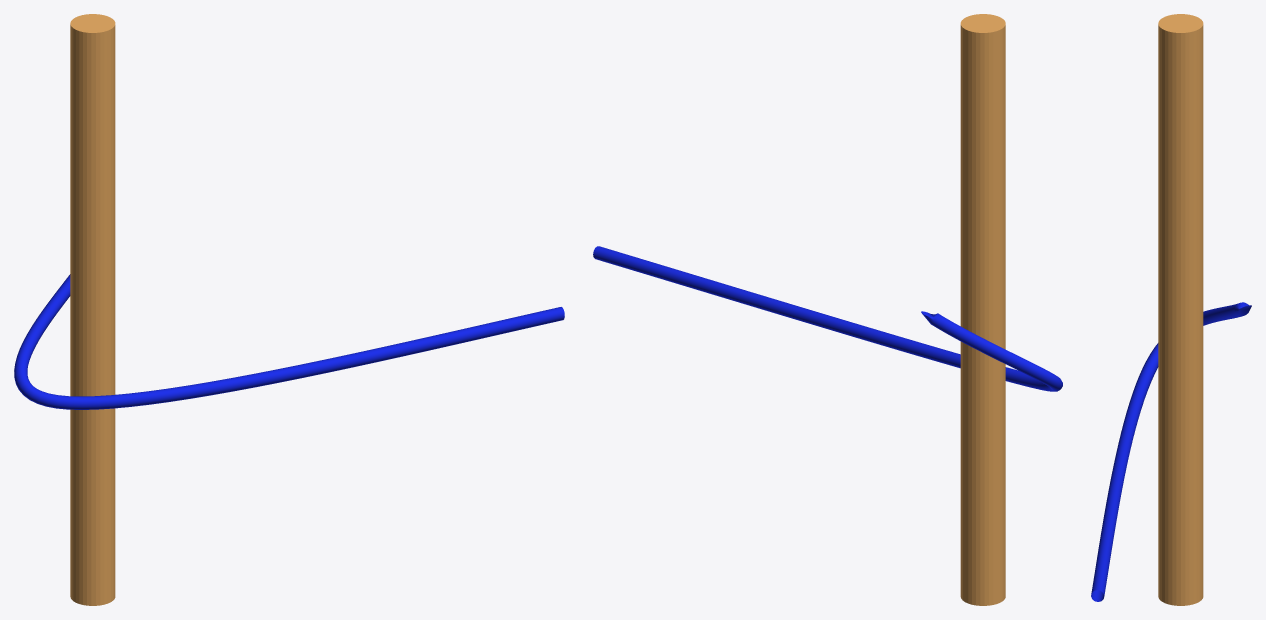
The model's file is TwoHalfHitchState2.dae.
3 views of the same model, side by side, from view 1: azimuth 30°, elevation 25°; view 2: azimuth 150°, elevation 25°; view 3: azimuth 270°, elevation 25° (orthographic).
Visible parts, largest first — view 1: Cylinder, NurbsCurve.001; view 2: Cylinder, NurbsCurve.001; view 3: Cylinder, NurbsCurve.001.
Boxes of the visible parts, <box> form: Cylinder: <box>70,14,115,605</box>; NurbsCurve.001: <box>14,274,564,409</box>; Cylinder: <box>960,14,1005,605</box>; NurbsCurve.001: <box>593,246,1062,391</box>; Cylinder: <box>1158,14,1203,605</box>; NurbsCurve.001: <box>1091,302,1251,601</box>.
Size of the model in its own units: 1.29 by 0.3565 by 1.4.
